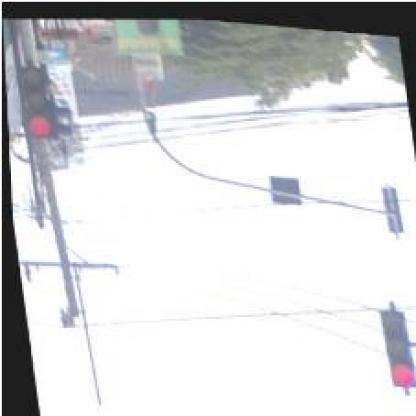red: (373, 298, 415, 386), (14, 62, 52, 140)
